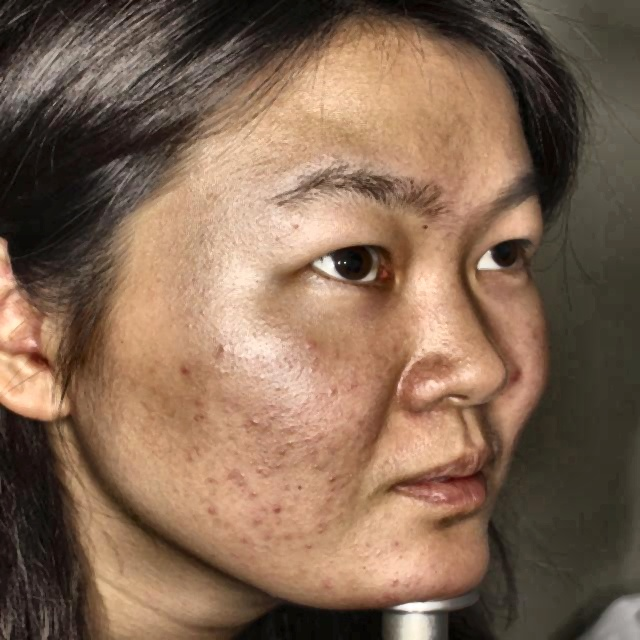comedone: (170, 363, 200, 381)
